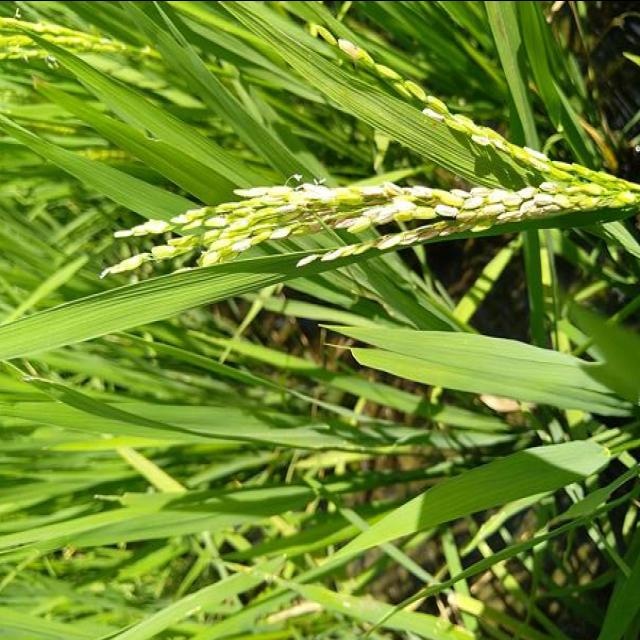Panicle Blight: (380, 221, 460, 246), (324, 214, 361, 227)
